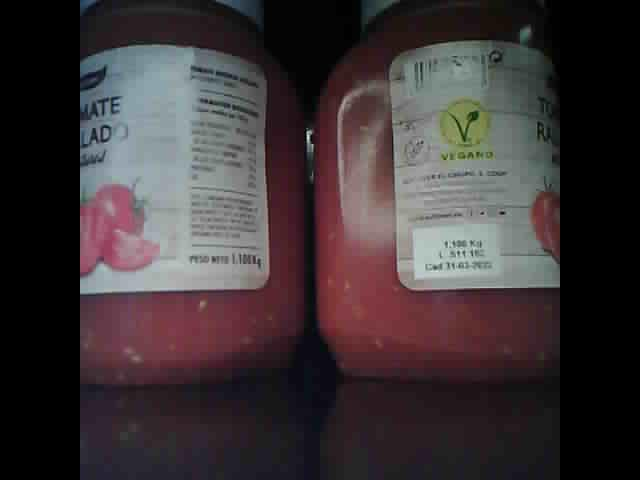tomate: (317, 4, 562, 380), (82, 5, 307, 387)
